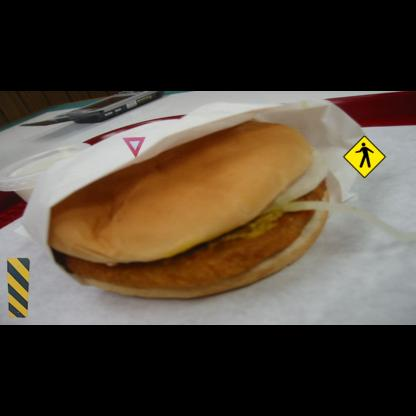A-32a: (343, 135, 386, 178)
O-MP: (7, 258, 30, 317)
